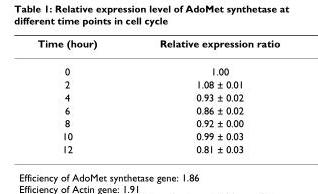table: (36, 36, 279, 154)
table column: (127, 36, 279, 154), (36, 36, 127, 154)
table column header: (36, 36, 279, 57)
table row: (36, 36, 279, 57), (36, 57, 279, 77), (36, 77, 279, 90), (36, 90, 279, 103), (36, 103, 279, 116), (36, 116, 279, 129), (36, 129, 279, 142), (36, 142, 279, 154)
